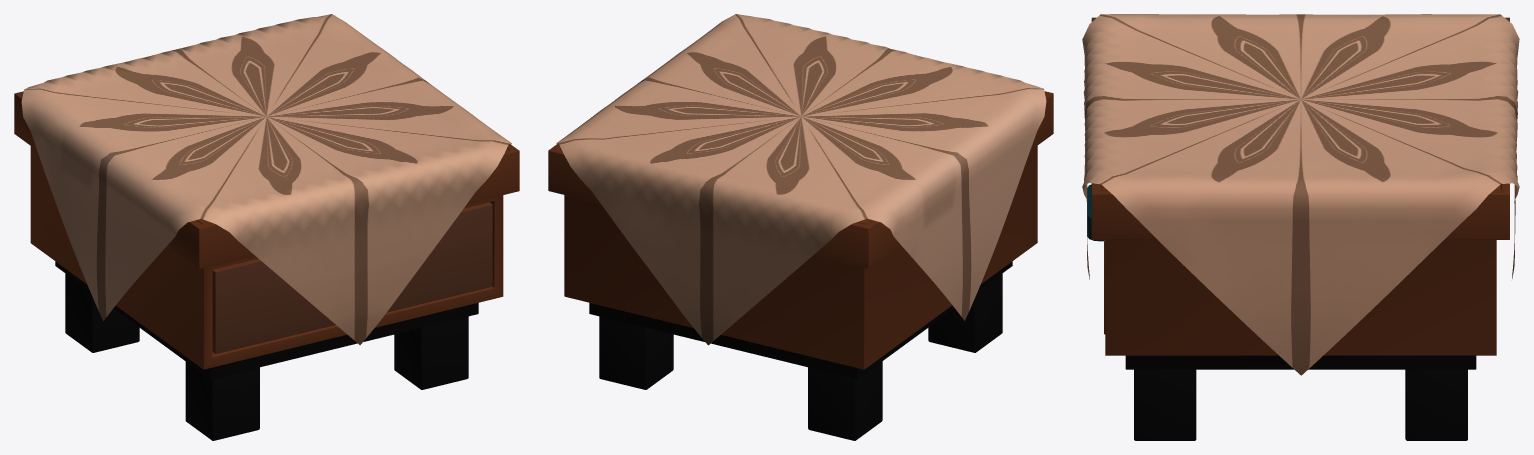
The model's file is customer_table.fbx.
The picture shows the model from 3 angles, left to right: view 1: azimuth 30°, elevation 25°; view 2: azimuth 150°, elevation 25°; view 3: azimuth 270°, elevation 25°; orthographic projection. The views are drawn at different scales.
Parts seen in each view (by area): view 1: kain, meja.003, meja_kaki.003; view 2: kain, meja.003, meja_kaki.003; view 3: kain, meja.003, meja_kaki.003.
Boxes of the visible parts, x1,y1,x2,y2 form: kain: [21, 14, 511, 345]; meja.003: [14, 91, 519, 379]; meja_kaki.003: [65, 273, 468, 440]; kain: [556, 14, 1046, 345]; meja.003: [548, 91, 1053, 379]; meja_kaki.003: [599, 273, 1002, 440]; kain: [1082, 14, 1519, 375]; meja.003: [1087, 17, 1509, 369]; meja_kaki.003: [1134, 369, 1467, 440].
Size of the model in its own units: 104 by 72.29 by 105.
Materials: 5 (1 with a texture image).
